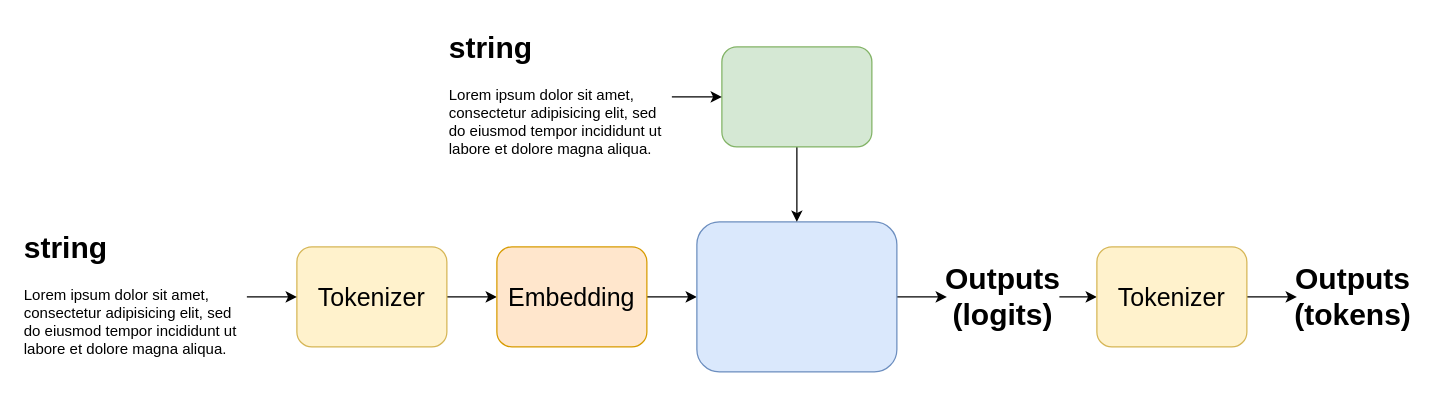
The diagram is 1433 pixels wide and 396 high, and some of its shapes have lost their labels. The shapes that lost their labels are listed below. From the top down, each one's centre as x and y in pixels, then its label:
At pixel 796 96: "Encoder".
At pixel 796 296: "Encoder/Decoder".
